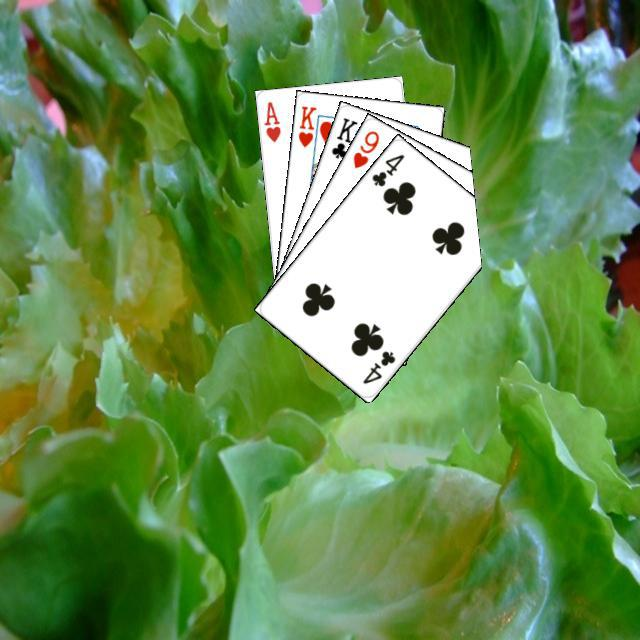4c: (357, 346, 397, 386), (367, 149, 406, 188)
9h: (348, 126, 381, 170)
Ah: (259, 96, 282, 144)
Kc: (326, 112, 361, 168)
Kh: (293, 101, 323, 154)
